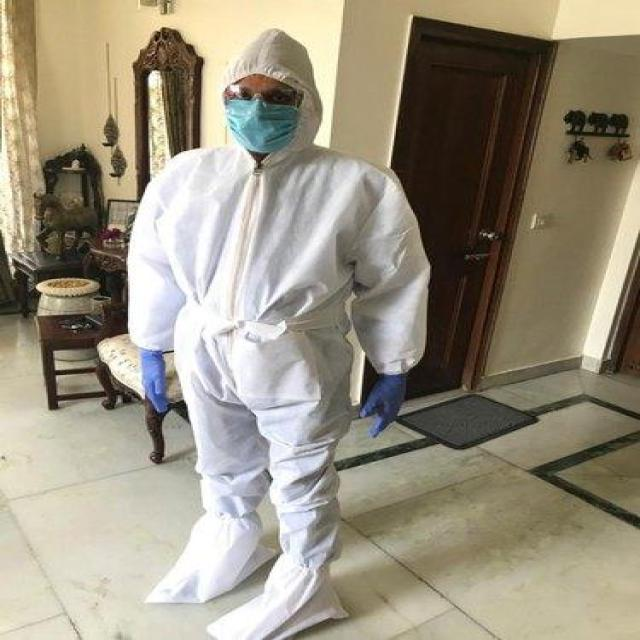Coverall: (114, 23, 439, 640)
Gloves: (359, 371, 407, 435), (137, 348, 173, 415)
Mask: (224, 96, 299, 148)
